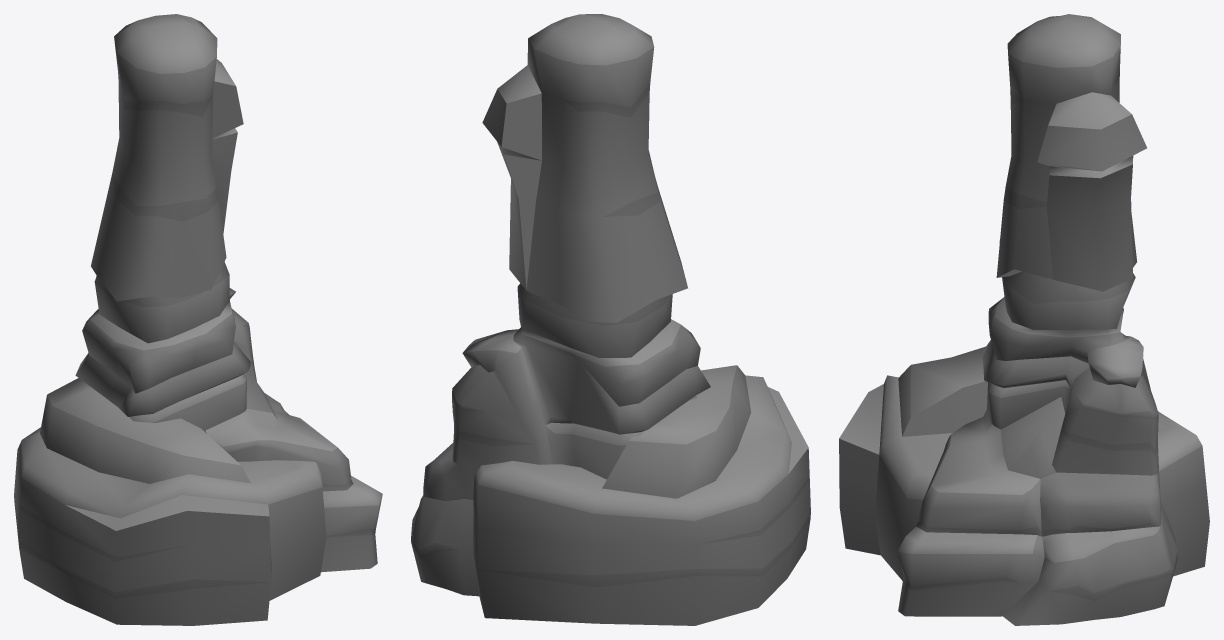
File: MountainDesert_3.fbx
3 views of the same model, side by side, from view 1: azimuth 30°, elevation 25°; view 2: azimuth 150°, elevation 25°; view 3: azimuth 270°, elevation 25° (orthographic). The views are drawn at different scales.
Parts seen in each view (by area): view 1: Mountain_3; view 2: Mountain_3; view 3: Mountain_3.
Part boxes in pixels (x1,y1,x2,y2): Mountain_3: (14, 14, 382, 625); Mountain_3: (411, 14, 810, 625); Mountain_3: (839, 14, 1209, 625).
Size of the model in its own units: 1300 by 1340 by 2114.
